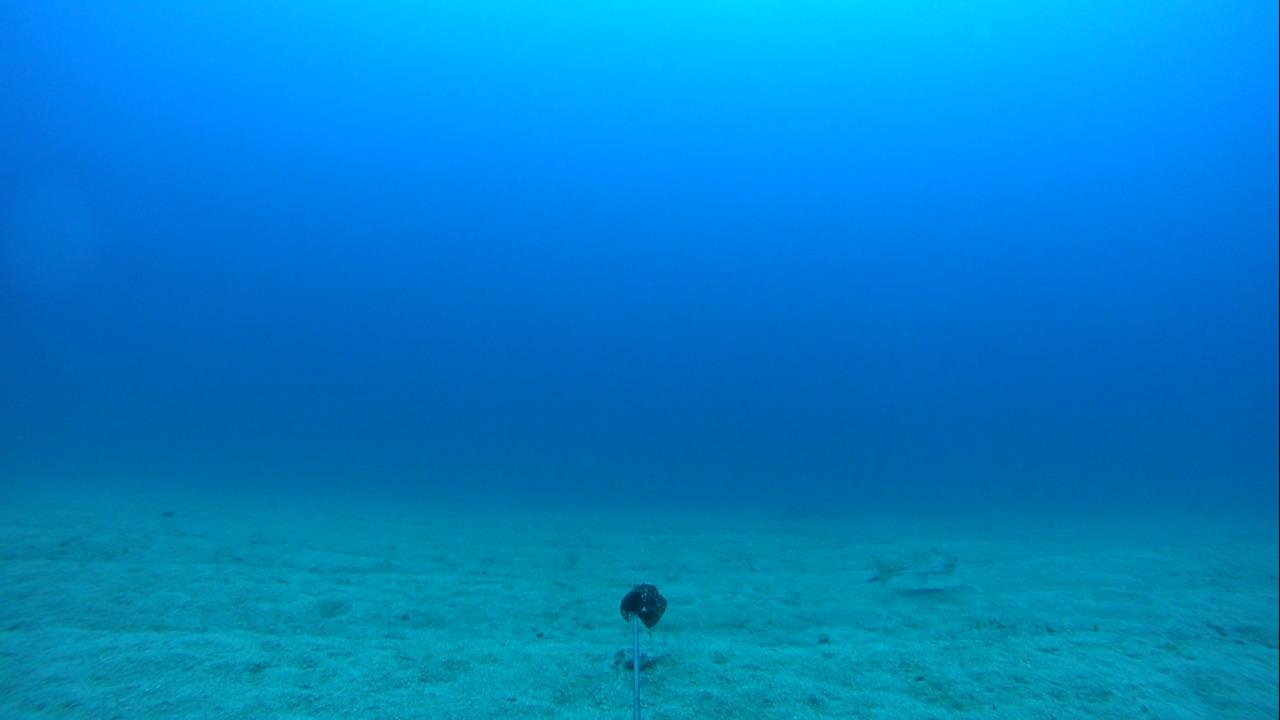dactylopterus: (857, 541, 958, 602)
